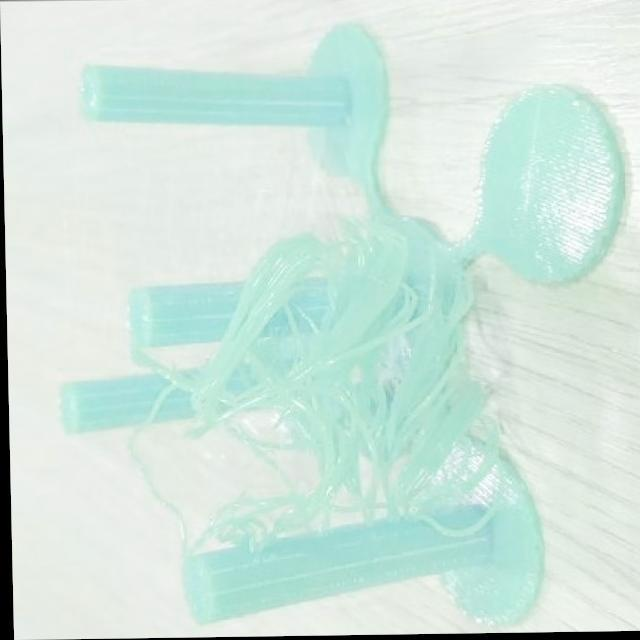spaghetti: (120, 211, 503, 560)
